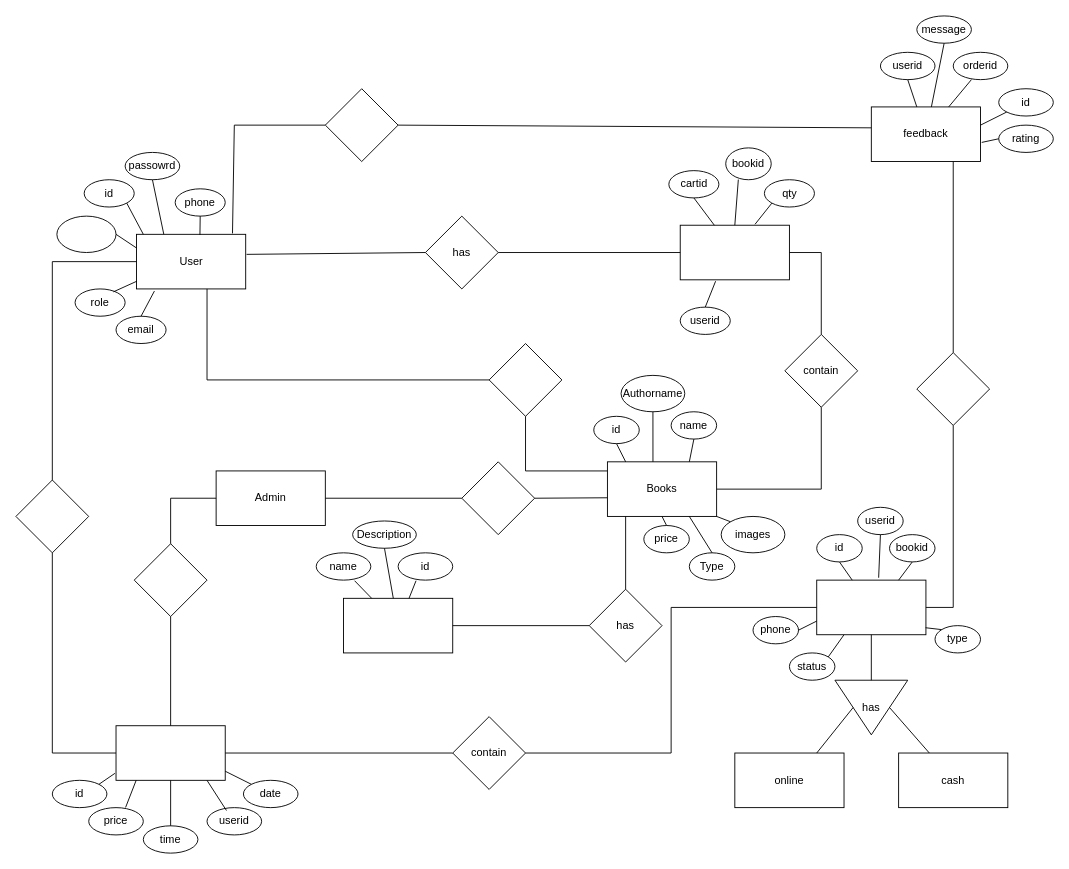
This 1069x869 diagram has some shape labels left out. Here are the shapes that lost their labels. From the top down, the centre of each, then its label:
[361,125]: write
[86,234]: username
[734,252]: cart
[525,379]: search
[953,388]: give
[52,516]: deliveed
[498,498]: manage
[170,580]: receive
[398,625]: Book category
[871,607]: Payment
[170,752]: order
